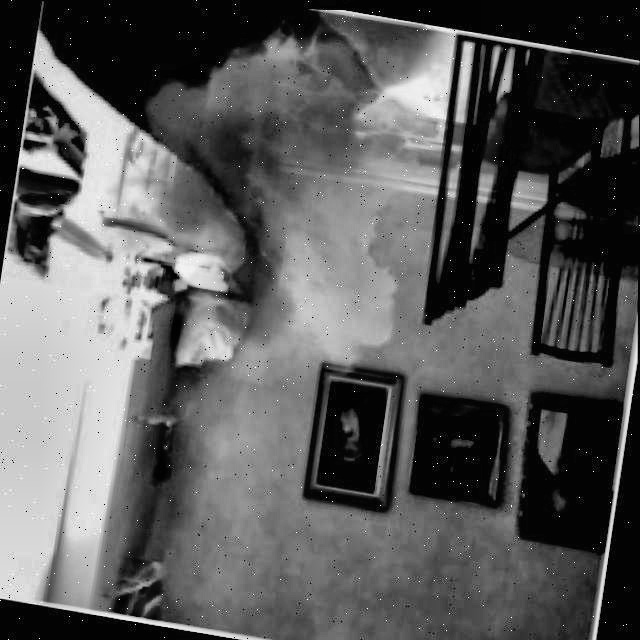Smoke: (57, 3, 522, 418)
